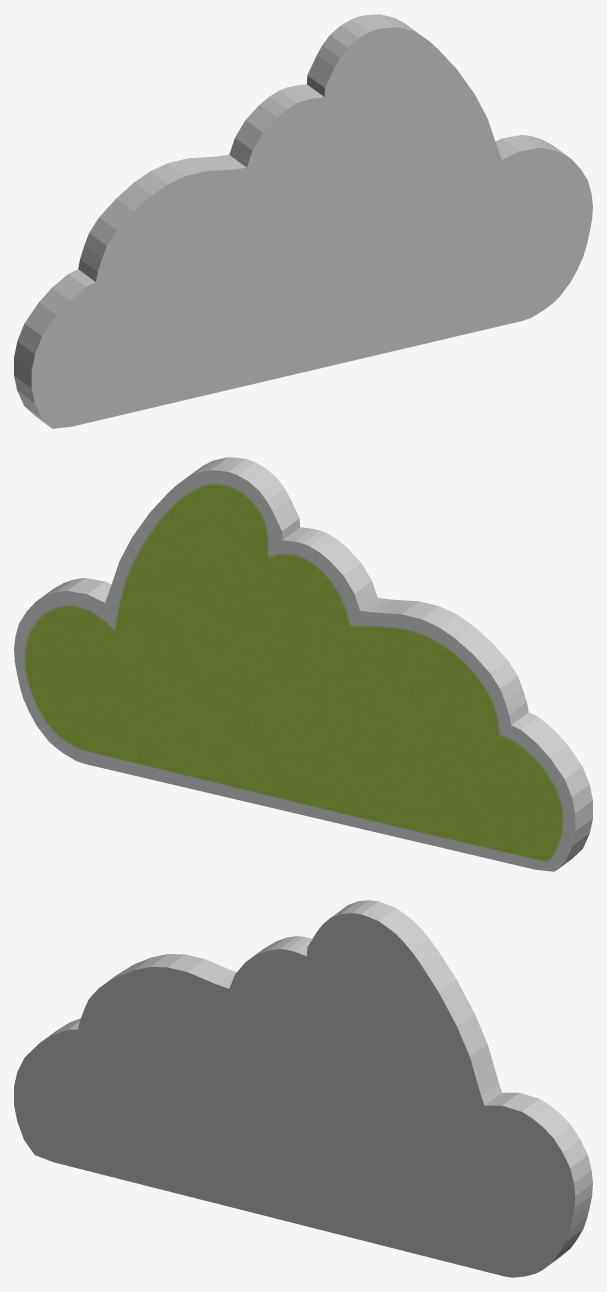
The model's file is bush.fbx.
The picture shows the model from 3 angles, top to bottom: view 1: azimuth 30°, elevation 25°; view 2: azimuth 150°, elevation 25°; view 3: azimuth 330°, elevation 25°; orthographic projection.
Visible parts, largest first — view 1: Bush R; view 2: Bush R; view 3: Bush R.
Part boxes in pixels (<box>): Bush R: <box>14,14,592,428</box>; Bush R: <box>14,457,592,871</box>; Bush R: <box>14,900,592,1277</box>.
Size of the model in its own units: 244 by 136 by 13.37.
